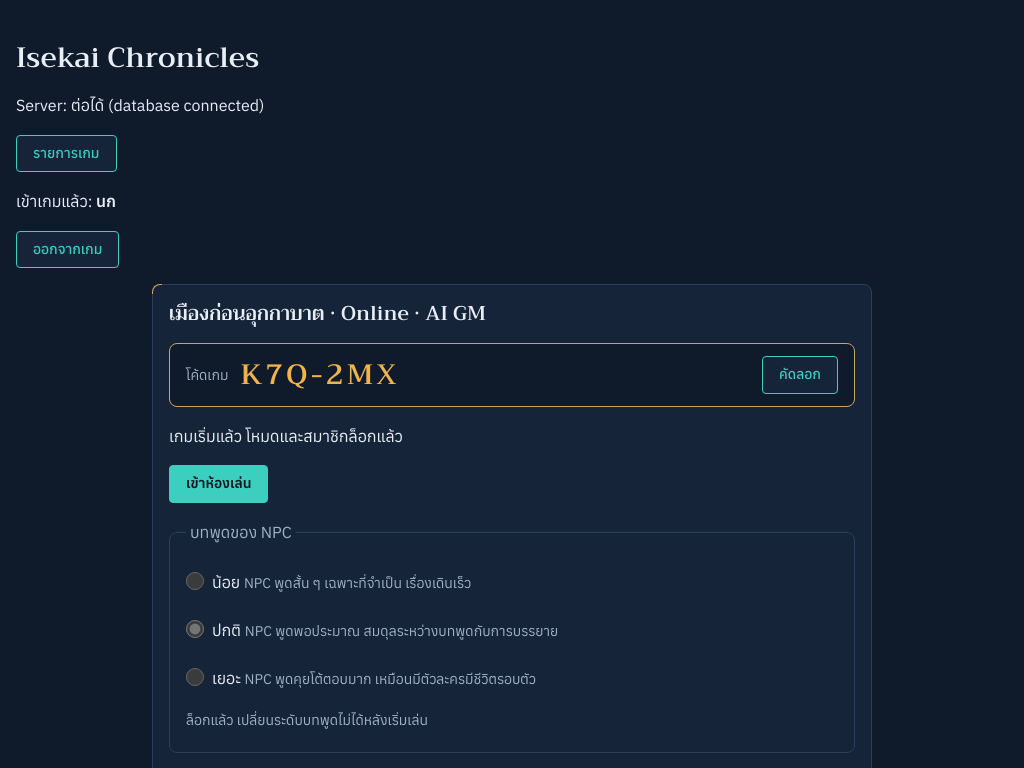
Test case: GEN-056 play room (web) › C1: entering sends hello with the token in the message, then shows who is online
Click the button "เข้าห้องเล่น" at (219, 484), box [169,465,268,503]
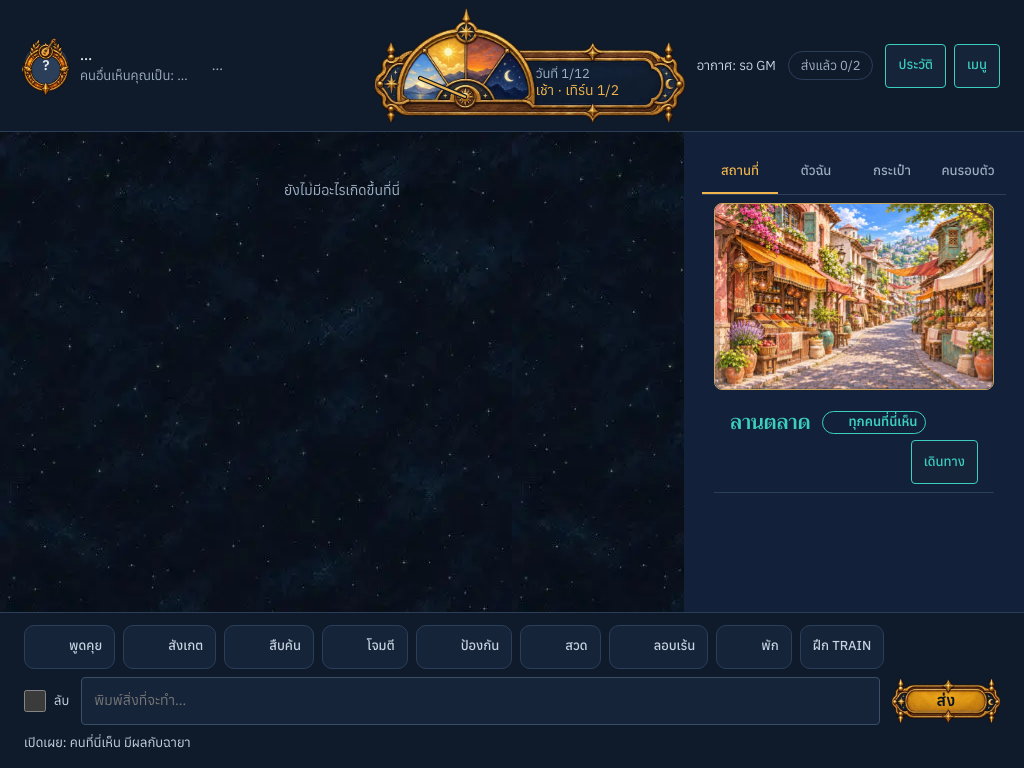
Click the button "เมนู" at (977, 66), box [954,44,1000,88]
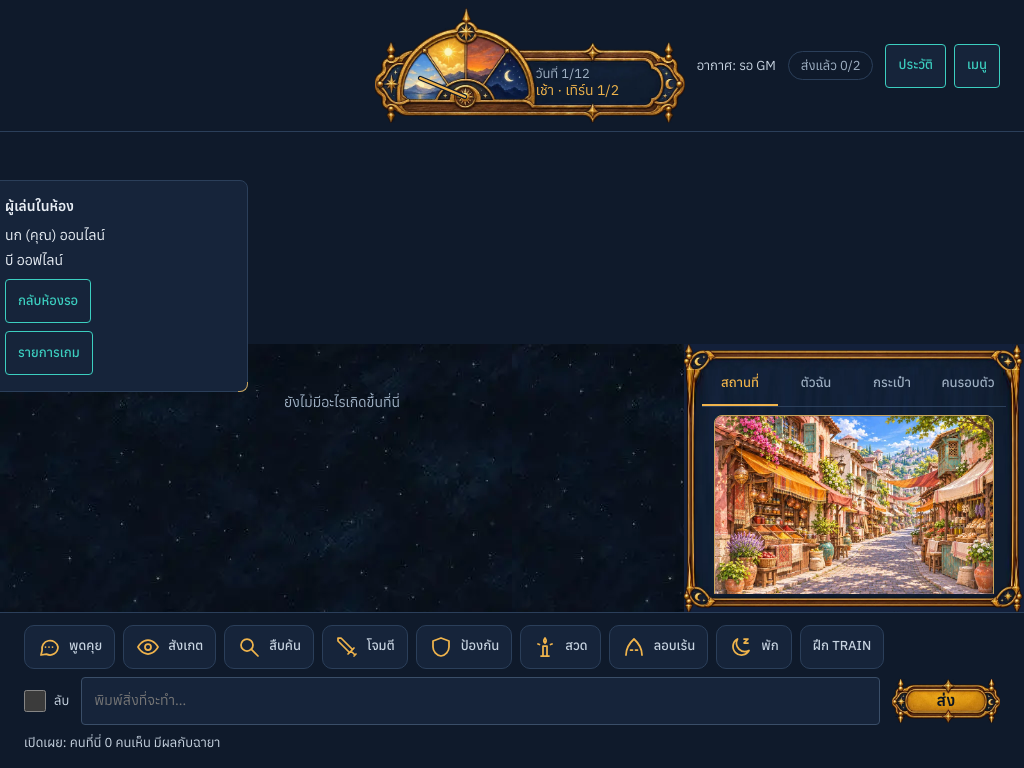
Check: the list item "นก (คุณ) ออนไลน์" is shown, box [5,225,105,246]
Check: the list item "บี ออฟไลน์" is shown, box [5,251,63,269]
